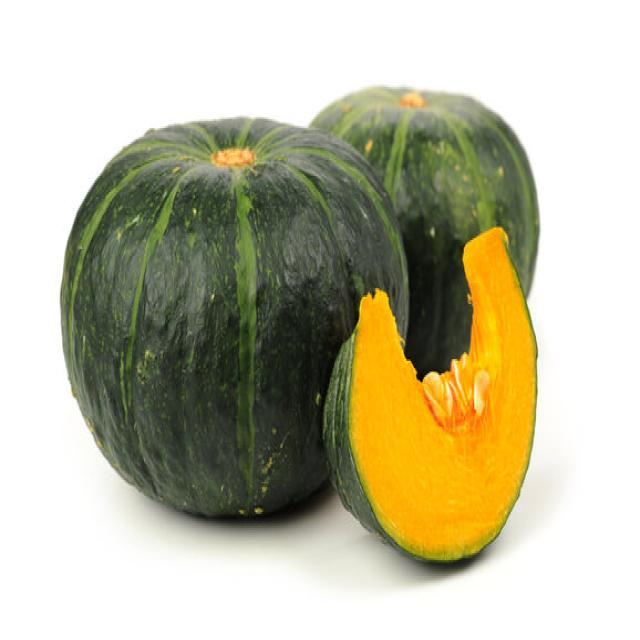Pumpkin: (58, 112, 410, 519), (322, 224, 538, 564), (307, 82, 540, 378)
